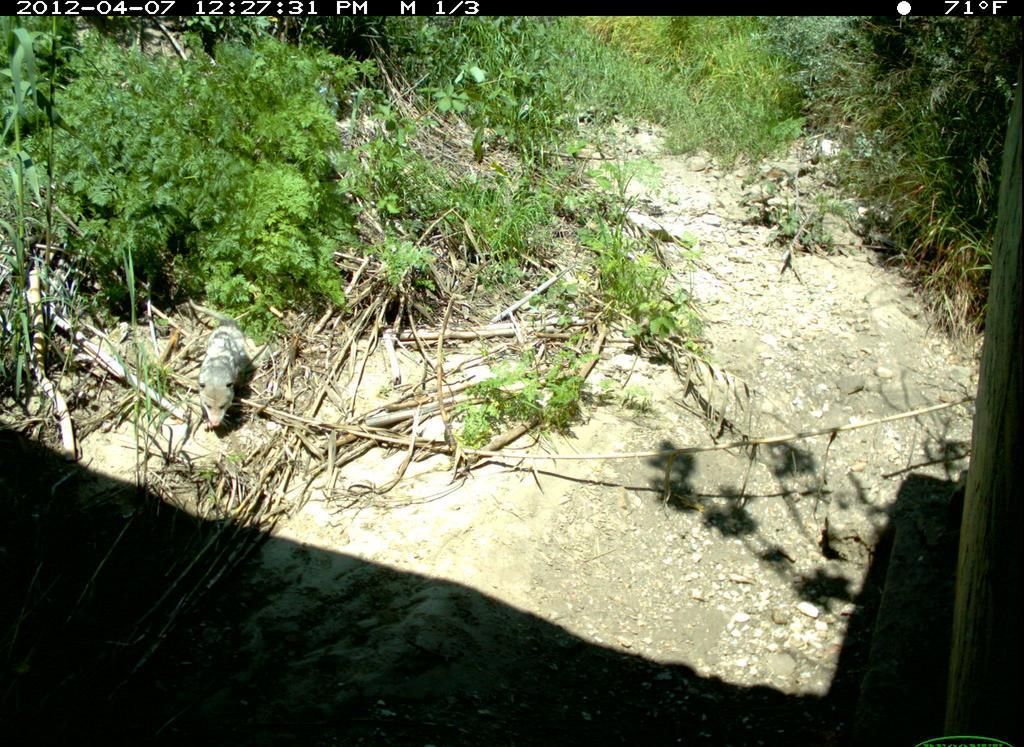opossum: (191, 305, 264, 445)
